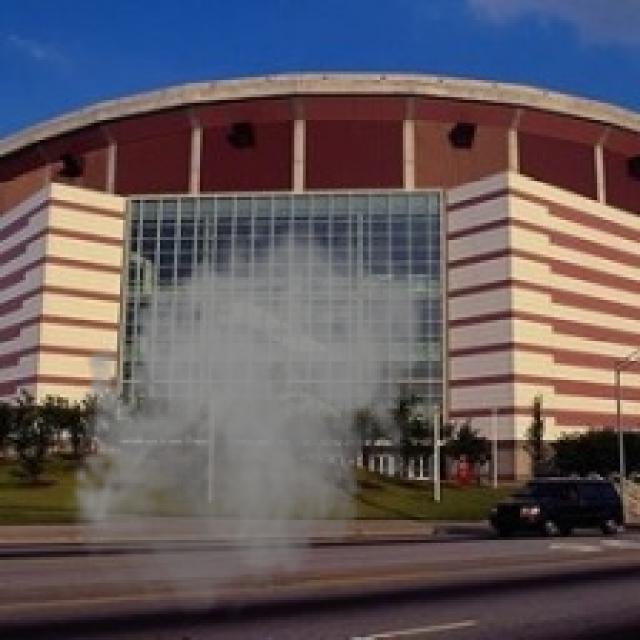smoke: (60, 212, 431, 628)
